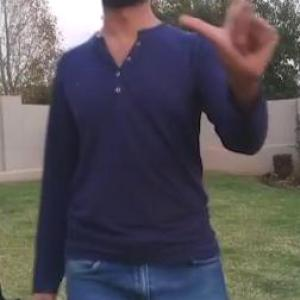land_hand: (170, 0, 285, 98)
